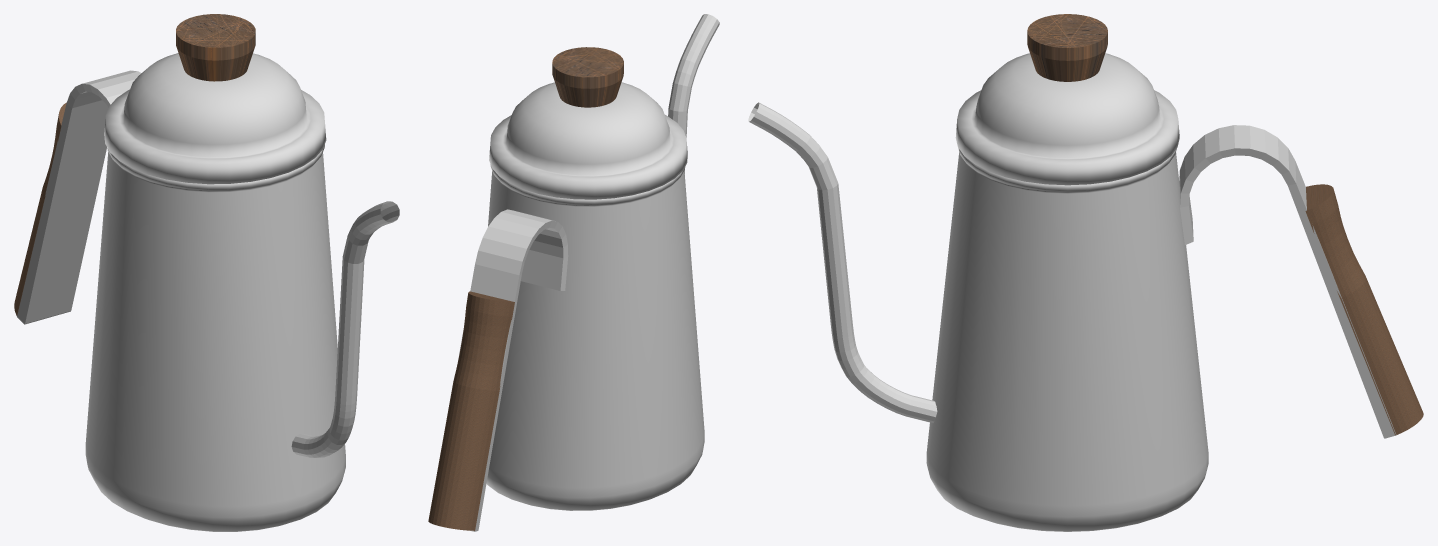
Rendered from Binh_cafe.glb.
3 views of the same model, side by side, from view 1: azimuth 30°, elevation 25°; view 2: azimuth 150°, elevation 25°; view 3: azimuth 270°, elevation 25° (orthographic). The views are drawn at different scales.
Parts seen in each view (by area): view 1: Cylinder, Cylinder.009, Plane, Plane.003, Cylinder.004, Cylinder.022; view 2: Cylinder, Cylinder.009, Cylinder.022, Plane, Cylinder.004, Plane.003; view 3: Cylinder, Cylinder.009, Plane.003, Cylinder.022, Plane, Cylinder.004.
Boxes of the visible parts, left/top/right/bottom form: Cylinder: left=85, top=144, right=345, bottom=531; Cylinder.009: left=104, top=53, right=326, bottom=184; Plane: left=17, top=70, right=141, bottom=324; Plane.003: left=291, top=201, right=399, bottom=457; Cylinder.004: left=176, top=14, right=255, bottom=81; Cylinder.022: left=14, top=102, right=66, bottom=315; Cylinder: left=486, top=164, right=704, bottom=510; Cylinder.009: left=489, top=82, right=687, bottom=199; Cylinder.022: left=428, top=291, right=514, bottom=530; Plane: left=458, top=209, right=568, bottom=531; Cylinder.004: left=552, top=47, right=623, bottom=107; Plane.003: left=668, top=14, right=719, bottom=174; Cylinder: left=926, top=148, right=1208, bottom=531; Cylinder.009: left=955, top=53, right=1179, bottom=185; Plane.003: left=748, top=102, right=937, bottom=422; Cylinder.022: left=1305, top=184, right=1423, bottom=435; Plane: left=1179, top=125, right=1396, bottom=438; Cylinder.004: left=1027, top=14, right=1107, bottom=81.
Bounding box in the file's own units: 9.26 × 18.21 × 24.47.
Materials: 3 (2 with a texture image).
